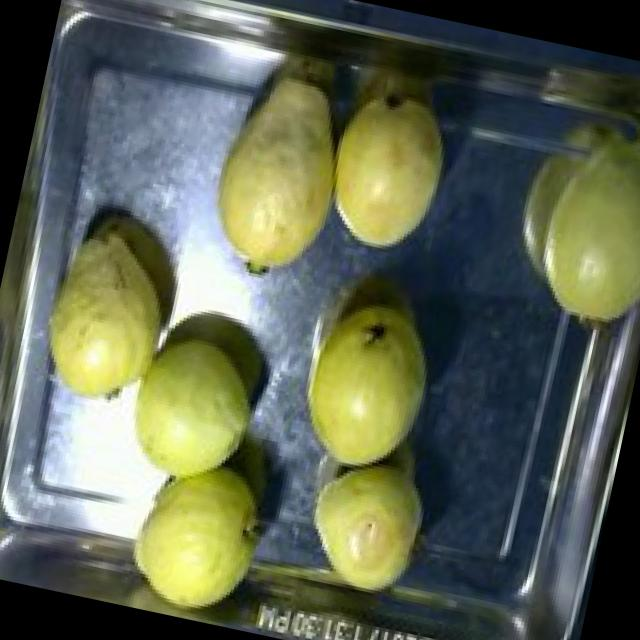Fruit: (8, 184, 208, 433), (187, 56, 367, 298), (96, 286, 284, 500), (485, 96, 640, 345), (276, 280, 454, 491), (106, 430, 278, 630), (316, 78, 464, 268), (286, 440, 446, 606)
